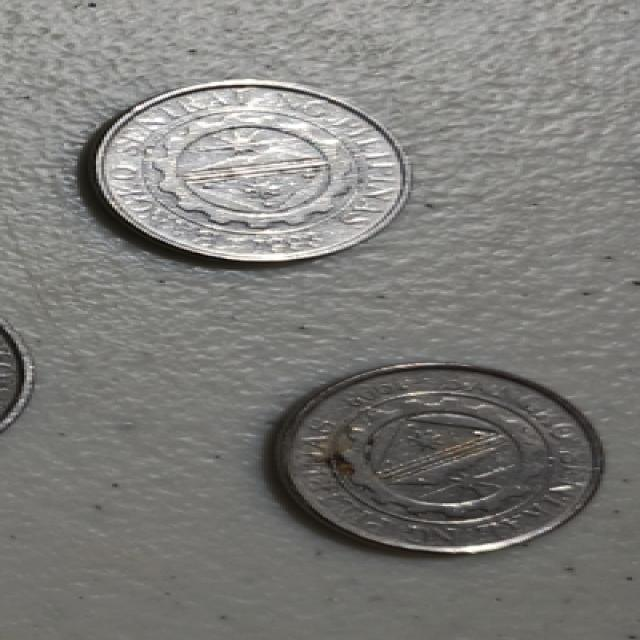1_peso: (277, 363, 600, 552), (93, 80, 405, 260)
